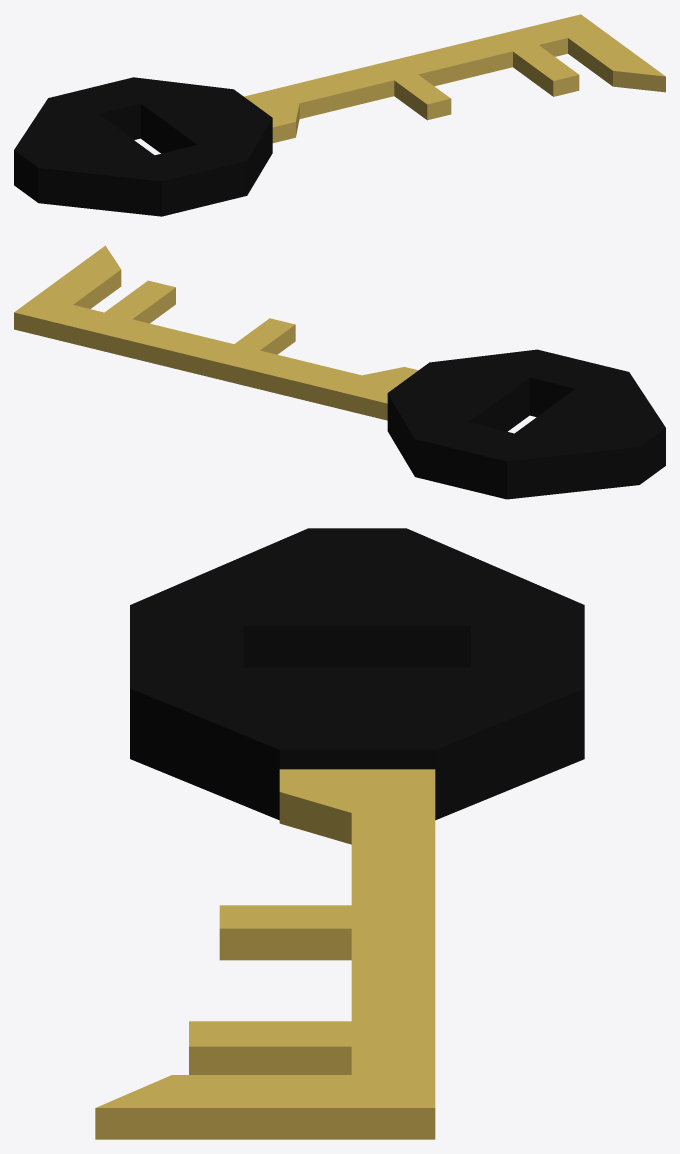
Rendered from Key.gltf.
The picture shows the model from 3 angles, top to bottom: view 1: azimuth 30°, elevation 25°; view 2: azimuth 150°, elevation 25°; view 3: azimuth 270°, elevation 25°; orthographic projection. The views are drawn at different scales.
Visible parts, largest first — view 1: Plane; view 2: Plane; view 3: Plane.
Part boxes in pixels (left/top/right/bottom): Plane: left=14, top=14, right=665, bottom=216; Plane: left=14, top=245, right=665, bottom=499; Plane: left=95, top=528, right=584, bottom=1139.
Bounding box in the file's own units: 1.76 × 0.1034 × 0.6498.
